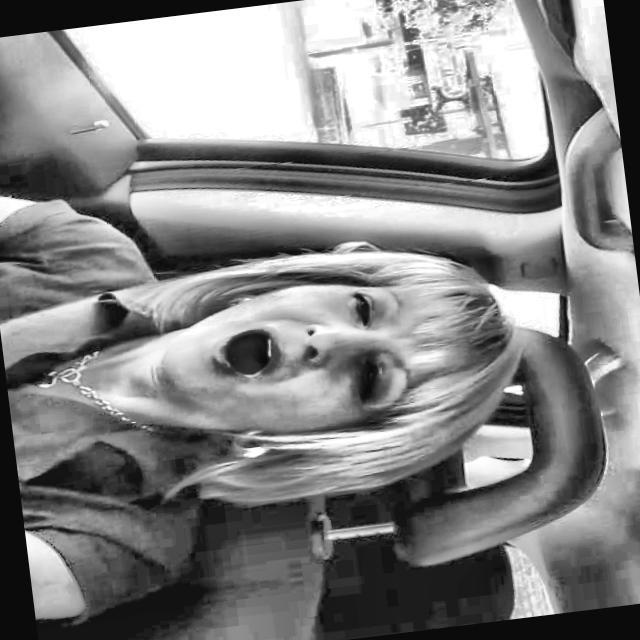open_eyes: (342, 353, 393, 417), (337, 284, 386, 333)
open_mouth: (200, 319, 288, 397)
